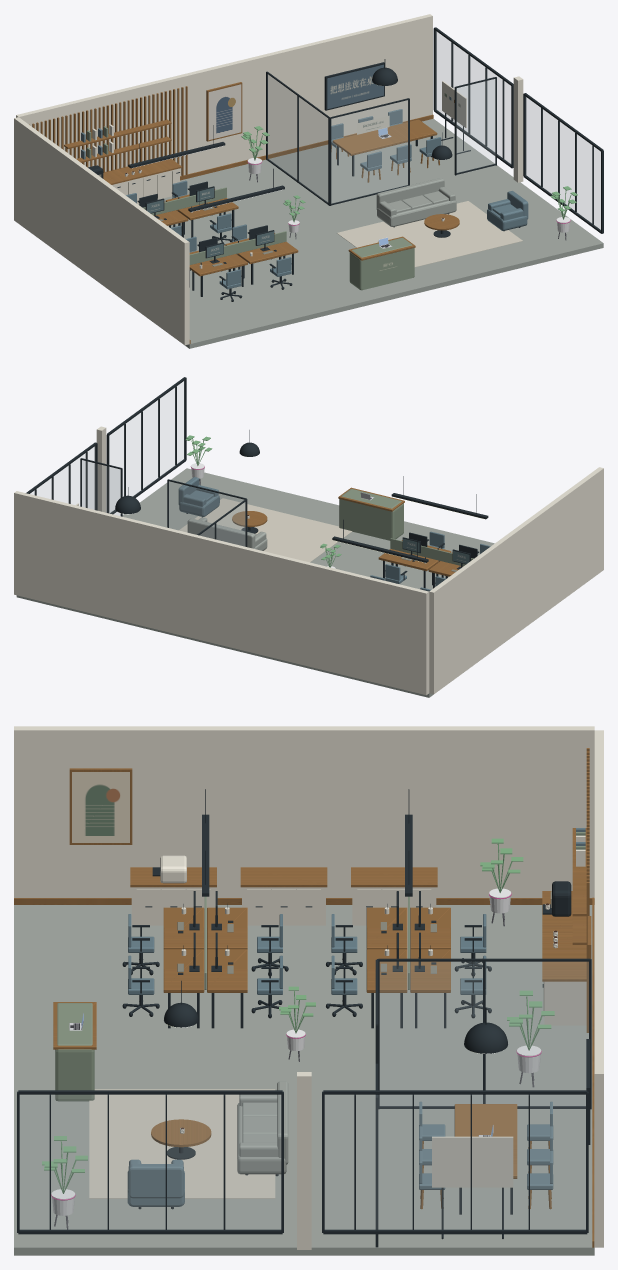
The model's file is office.glb.
3 views of the same model, one above another, from view 1: azimuth 30°, elevation 25°; view 2: azimuth 150°, elevation 25°; view 3: azimuth 270°, elevation 25° (orthographic). The views are drawn at different scales.
Visible parts, largest first — view 1: Floor_1, BackWall_2, LeftWall_3, Glass_369, Glass_63, Glass_363, Panel_482, Glass_53, Glass_374, SoftEdge_509, Desktop_379, OriginalArtwork_515 (+20 smaller); view 2: BackWall_2, LeftWall_3, Floor_1, Glass_63, Panel_482, Glass_369, SoftEdge_509, Glass_374, Glass_53, Glass_363, Back_484, WindowPier_72 (+7 smaller); view 3: Floor_1, LeftWall_3, Glass_63, Glass_53, Glass_363, Panel_482, BackWall_2, studio-plant-pot (×4), Panel_425, OriginalArtwork_518, SoftEdge_509, WindowPier_72 (+37 smaller).
Boxes of the visible parts, <box> form: Floor_1: <box>138,118,603,348</box>; BackWall_2: <box>16,14,432,176</box>; LeftWall_3: <box>14,117,189,345</box>; Glass_369: <box>331,100,407,203</box>; Glass_63: <box>525,97,600,229</box>; Glass_363: <box>268,75,327,202</box>; Panel_482: <box>337,201,522,267</box>; Glass_53: <box>436,31,510,163</box>; Glass_374: <box>457,79,495,172</box>; SoftEdge_509: <box>349,238,414,290</box>; Desktop_379: <box>332,119,437,155</box>; OriginalArtwork_515: <box>208,84,241,139</box>; BackWall_2: <box>14,491,429,695</box>; LeftWall_3: <box>429,467,603,694</box>; Floor_1: <box>16,468,494,697</box>; Glass_63: <box>109,381,184,512</box>; Panel_482: <box>179,498,352,562</box>; Glass_369: <box>169,481,244,545</box>; SoftEdge_509: <box>339,489,403,540</box>; Glass_374: <box>82,460,120,515</box>; Glass_53: <box>30,446,95,509</box>; Glass_363: <box>200,502,245,546</box>; Back_484: <box>187,518,255,548</box>; WindowPier_72: <box>96,426,106,512</box>; Floor_1: <box>14,905,594,1255</box>; LeftWall_3: <box>14,726,594,897</box>; Glass_63: <box>20,1095,280,1229</box>; Glass_53: <box>325,1095,585,1229</box>; Glass_363: <box>380,962,588,1105</box>; Panel_482: <box>89,1089,275,1198</box>; BackWall_2: <box>594,730,603,1247</box>; studio-plant-pot (×4): <box>42,838,554,1229</box>; Panel_425: <box>432,1136,513,1187</box>; OriginalArtwork_518: <box>72,772,129,842</box>; SoftEdge_509: <box>55,1003,94,1101</box>; WindowPier_72: <box>297,1072,311,1249</box>.
Size of the model in its own units: 14.26 by 3.45 by 10.16.
33 materials, 15 textured.
